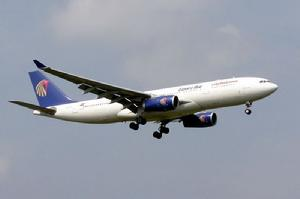airplane: (7, 59, 282, 141)
